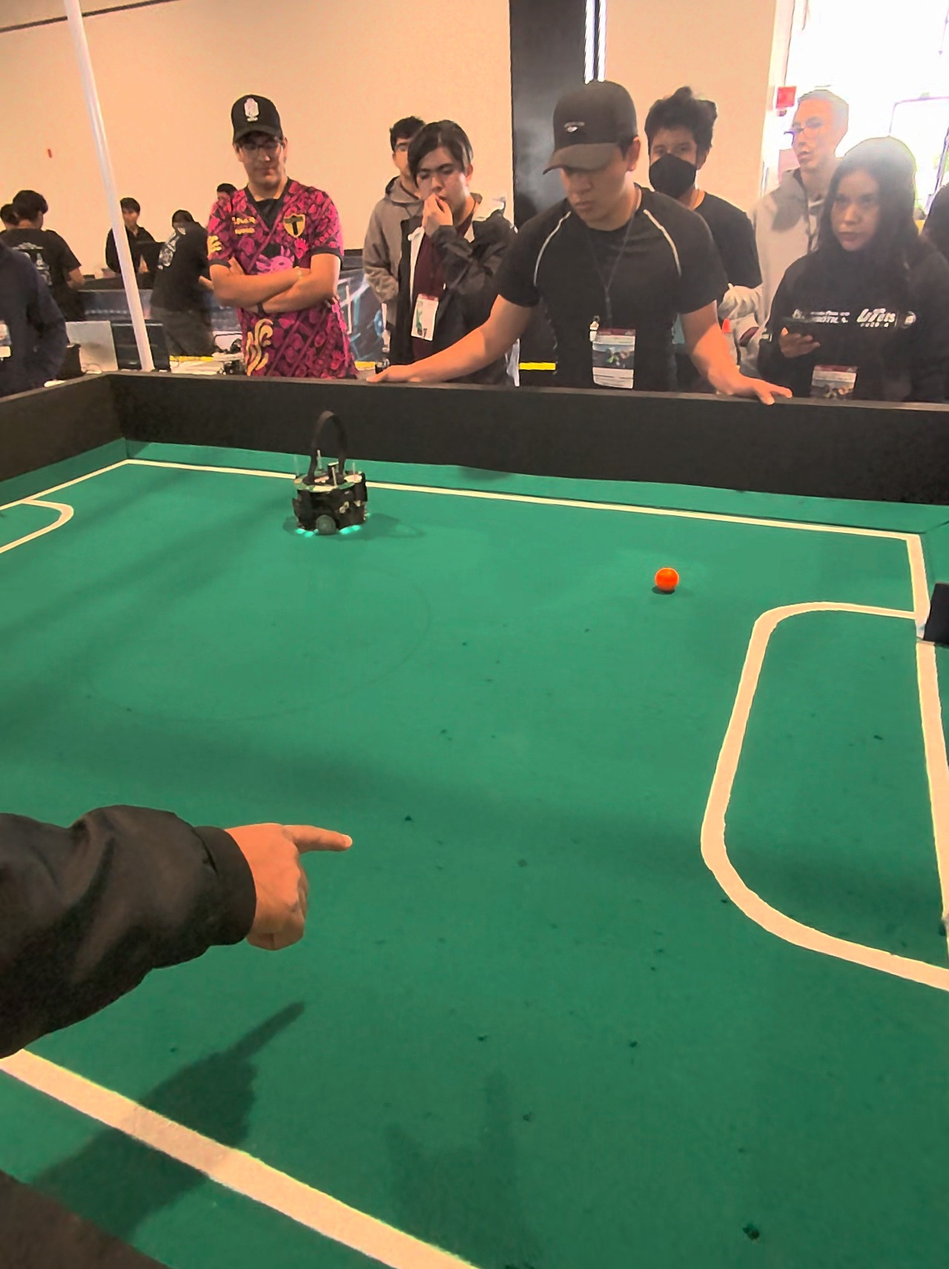Robot: (285, 412, 374, 554)
pelota: (643, 557, 689, 607)
